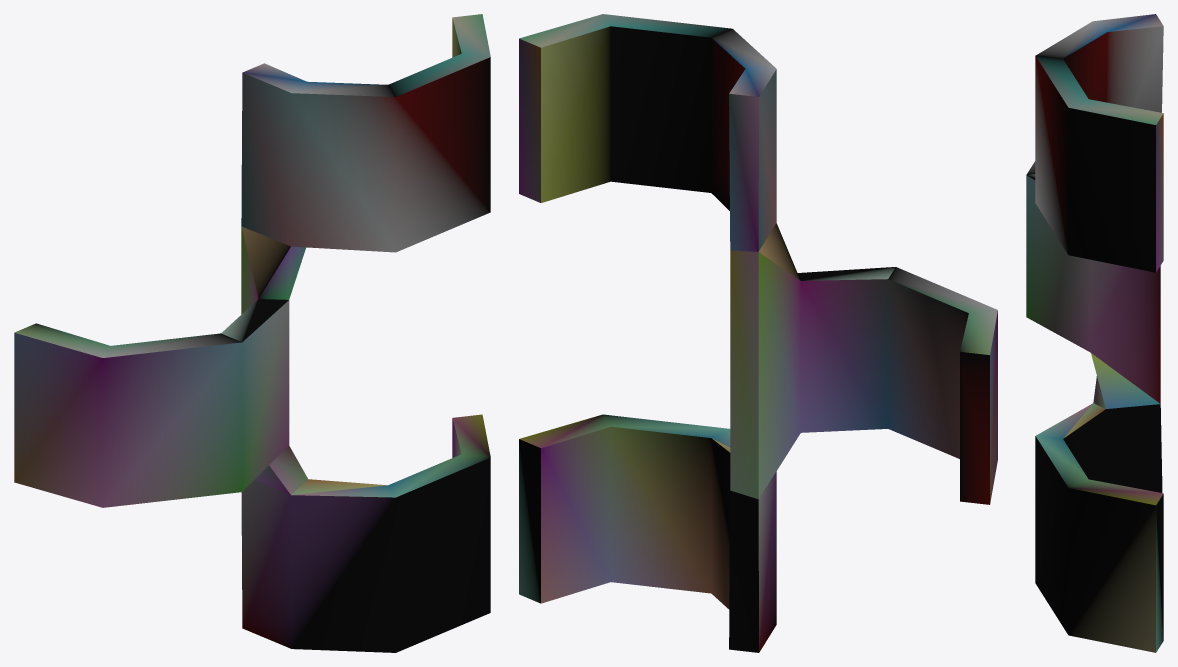
File: S_WEP_FX_AR_Linkejection.gltf
3 views of the same model, side by side, from view 1: azimuth 30°, elevation 25°; view 2: azimuth 150°, elevation 25°; view 3: azimuth 270°, elevation 25° (orthographic). The views are drawn at different scales.
Parts seen in each view (by area): view 1: S_WEP_FX_AR_Linkejection; view 2: S_WEP_FX_AR_Linkejection; view 3: S_WEP_FX_AR_Linkejection.
Boxes of the visible parts, <box> form: S_WEP_FX_AR_Linkejection: <box>14,14,490,652</box>; S_WEP_FX_AR_Linkejection: <box>519,14,997,652</box>; S_WEP_FX_AR_Linkejection: <box>1026,14,1163,652</box>.
Size of the model in its own units: 0.0179 by 0.0202 by 0.00477.
